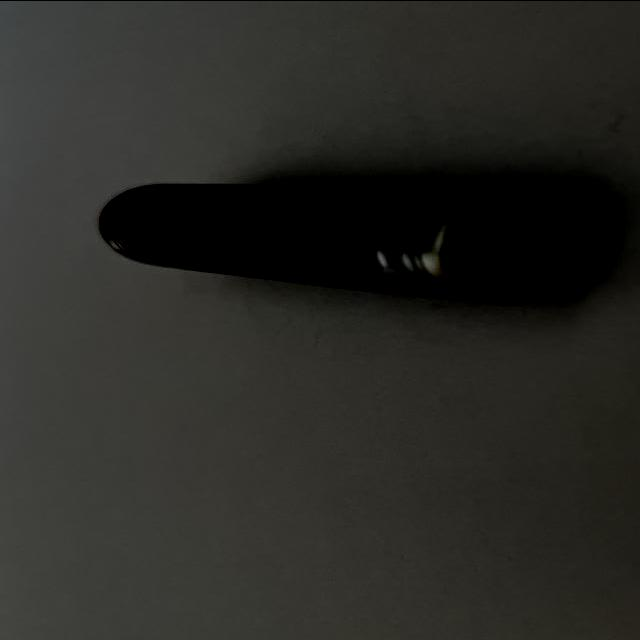AAA: (98, 175, 598, 307)
